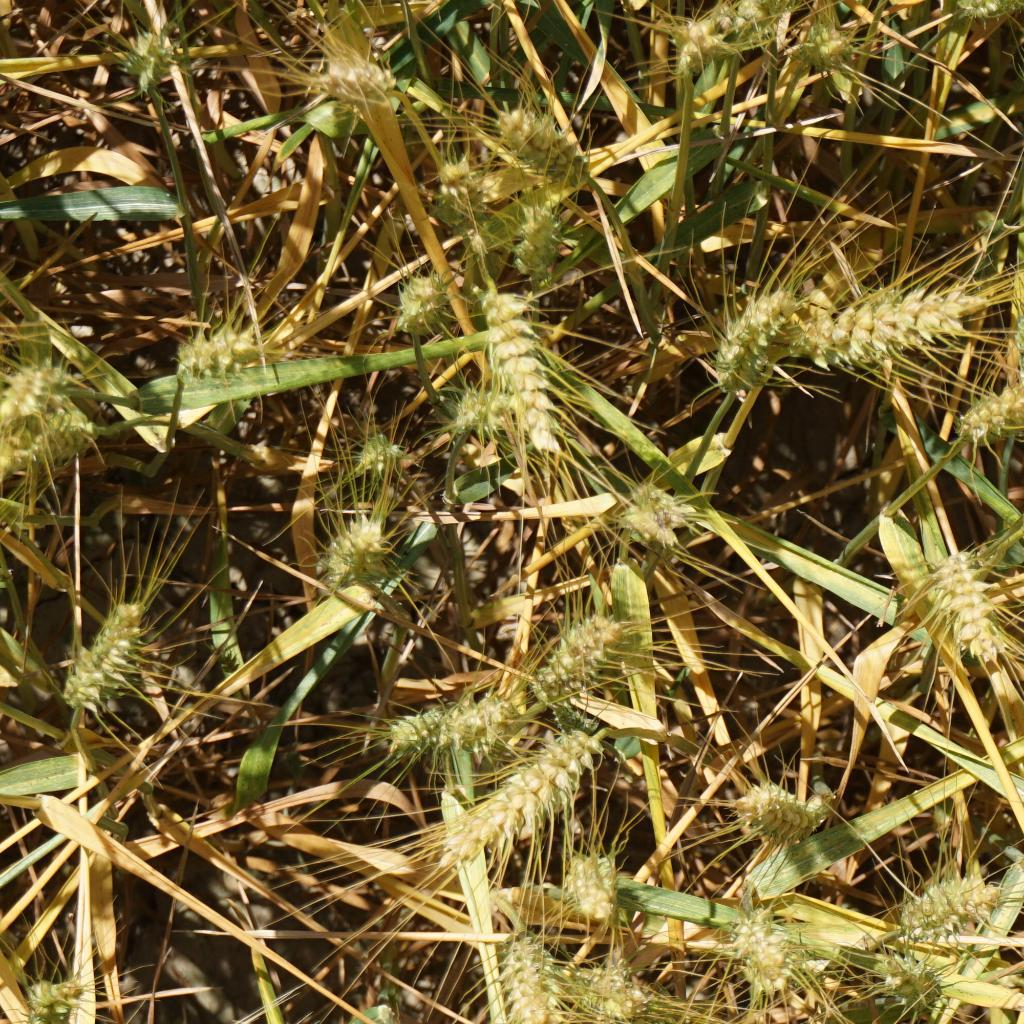0-0: (425, 729, 612, 870), (794, 274, 992, 376), (470, 301, 587, 463), (58, 598, 155, 714), (704, 286, 799, 399), (498, 108, 606, 195), (388, 685, 516, 751), (162, 319, 278, 390), (926, 543, 999, 654), (730, 910, 813, 1006), (900, 864, 1004, 939), (609, 474, 694, 560), (495, 924, 563, 1024), (536, 849, 627, 923), (0, 411, 93, 483), (539, 608, 617, 692), (317, 512, 400, 590), (113, 31, 197, 107), (733, 781, 834, 841), (376, 265, 454, 338), (882, 948, 951, 1024), (563, 965, 653, 1020), (311, 41, 394, 100), (435, 158, 499, 230), (12, 966, 90, 1024), (507, 207, 570, 278), (801, 16, 864, 78), (954, 380, 1024, 435), (0, 352, 58, 418), (342, 425, 417, 475), (447, 363, 498, 436), (671, 22, 740, 75), (721, 0, 785, 49), (999, 263, 1024, 388), (539, 698, 603, 742), (950, 0, 1024, 25)
